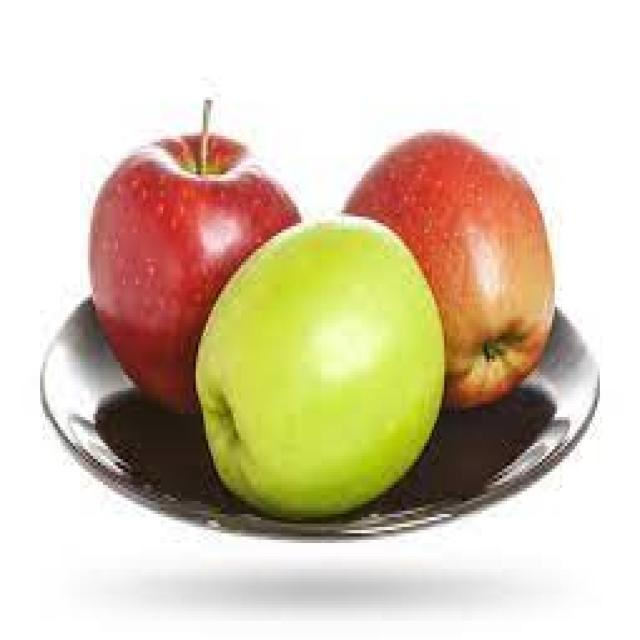non_orange: (183, 163, 452, 533), (58, 72, 320, 436), (313, 80, 600, 410)
